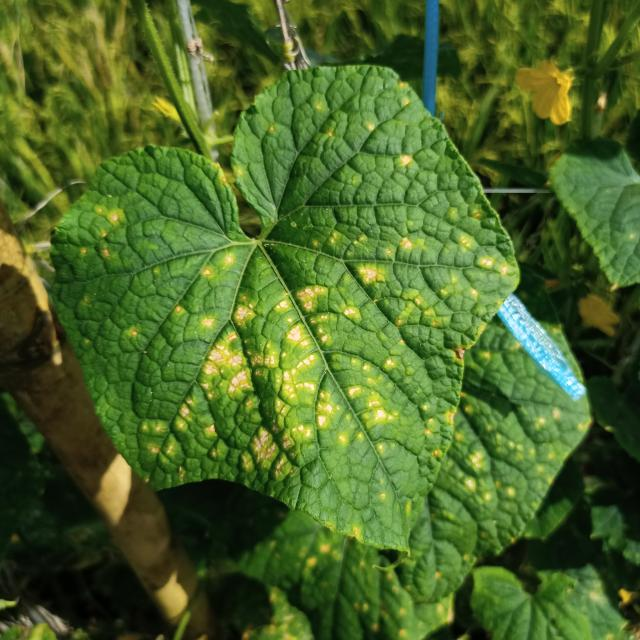disease_cucumber: (80, 102, 507, 503)
